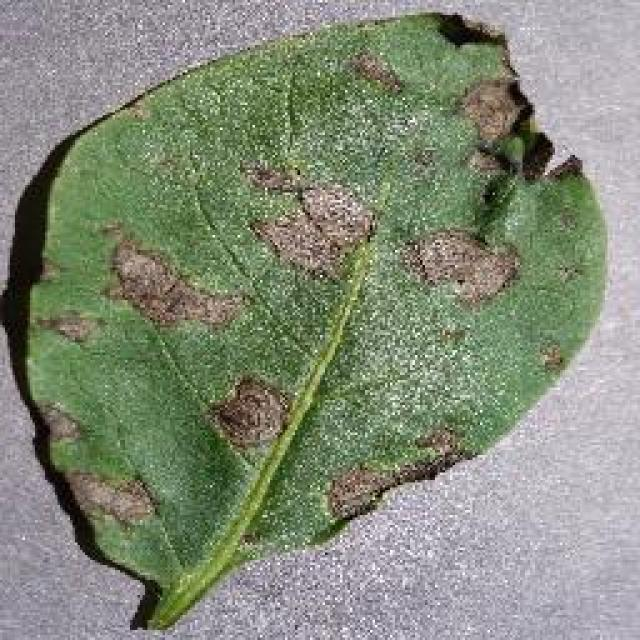early_blight: (5, 5, 613, 633)
